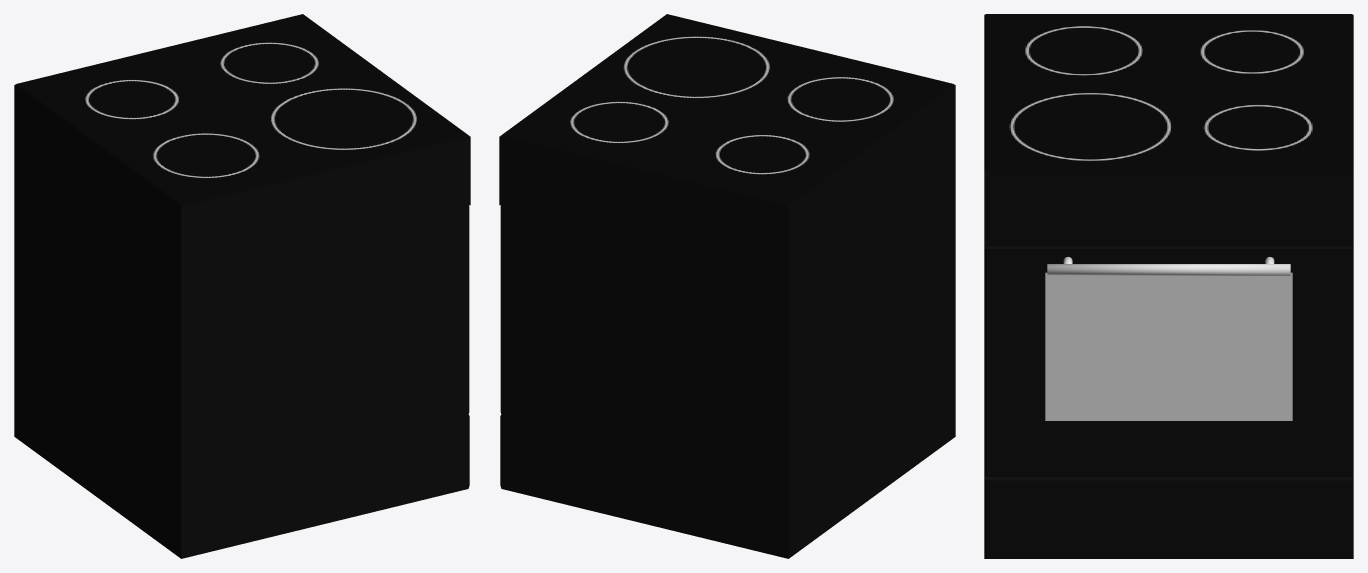
Rendered from Oven.fbx.
3 renders of one model, left to right at view 1: azimuth 30°, elevation 25°; view 2: azimuth 150°, elevation 25°; view 3: azimuth 270°, elevation 25°, orthographic. The views are drawn at different scales.
Parts seen in each view (by area): view 1: Oven, Door.001, Drawer; view 2: Oven, Door.001, Drawer; view 3: Oven, Door.001, Drawer.
Boxes of the visible parts, box(x1,y1,x2,y2) form: Oven: box(14, 14, 470, 558); Door.001: box(455, 205, 469, 417); Drawer: box(455, 415, 469, 491); Oven: box(499, 14, 955, 558); Door.001: box(500, 205, 514, 417); Drawer: box(500, 415, 514, 491); Oven: box(984, 14, 1353, 246); Door.001: box(984, 246, 1353, 476); Drawer: box(984, 477, 1353, 558).
Size of the model in its own units: 64.44 by 70 by 60.
